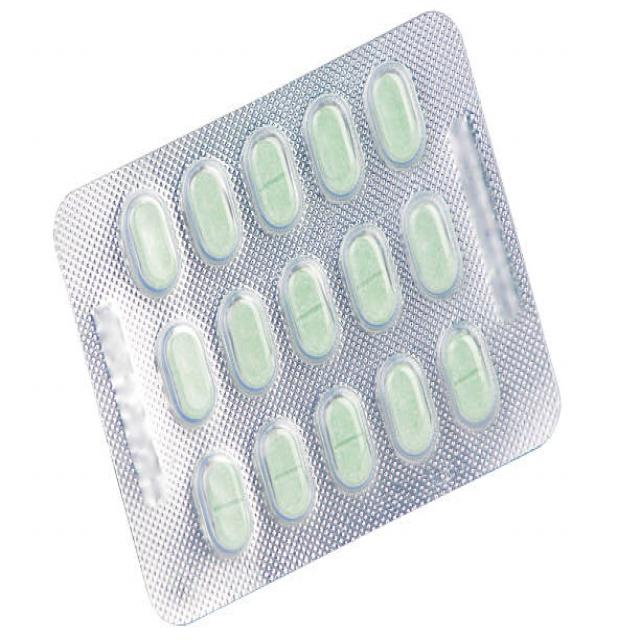Pill: (372, 355, 439, 467), (254, 409, 316, 530), (404, 185, 466, 304), (118, 185, 184, 294), (316, 386, 380, 496), (363, 56, 425, 169), (240, 122, 301, 234), (339, 222, 399, 334), (302, 88, 360, 202), (182, 152, 241, 264), (158, 316, 218, 426), (194, 452, 252, 564), (219, 285, 277, 395), (281, 254, 339, 363), (440, 321, 497, 430)
